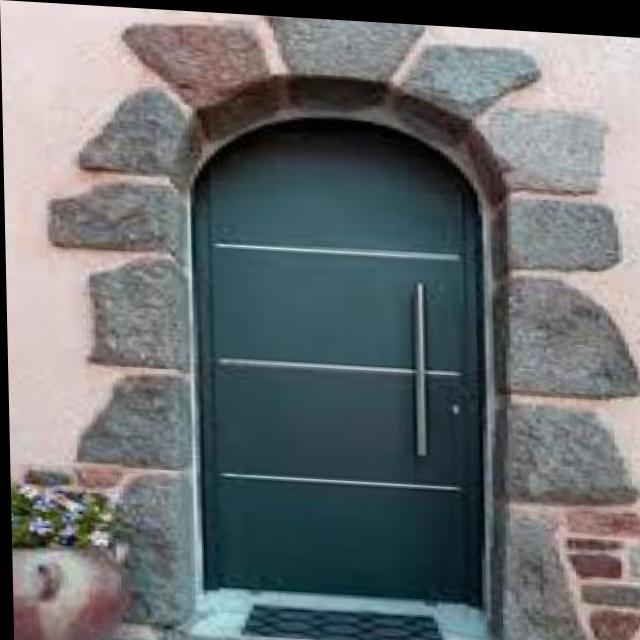door_handle: (397, 269, 442, 462)
